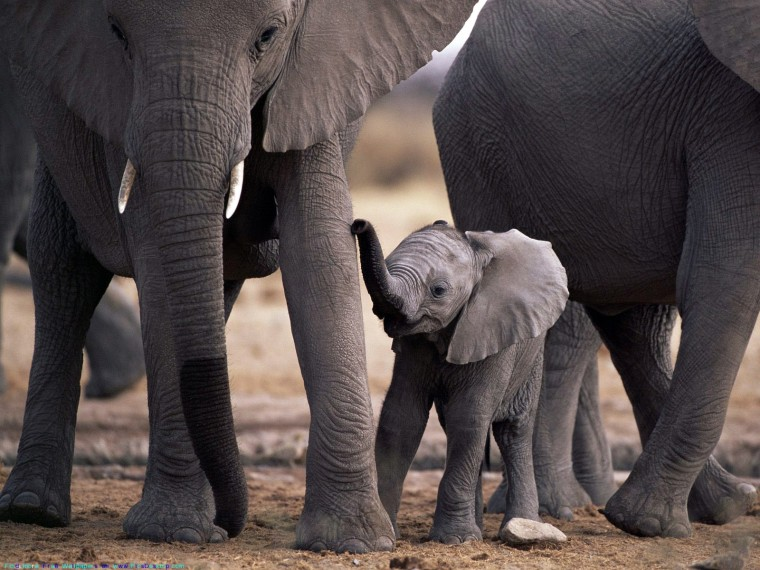africanelephant: (353, 201, 488, 370)
